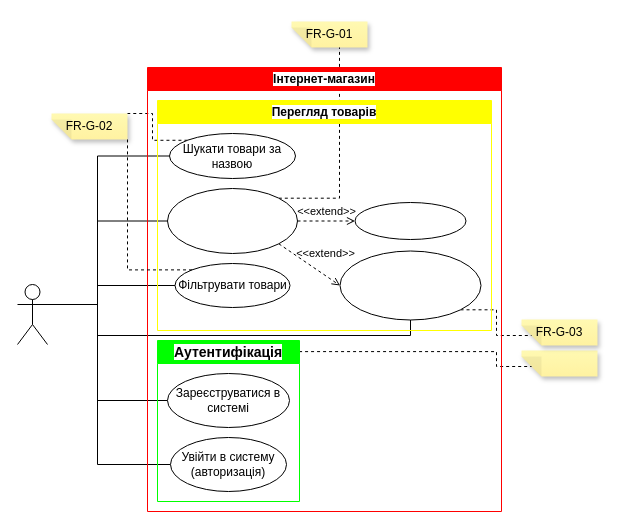
This 621x529 diagram has some shape labels left out. The shapes that lost their labels are listed below. From the top down, each one's centre as x and y in pixels, then its label:
At point 232,221: "Переглянути каталог товарів".
At point 410,221: "Сортувати товари".
At point 410,285: "Переглянути детальну інформацію про товар".
At point 32,314: "Гість".
At point 560,364: "FR-G-04".
